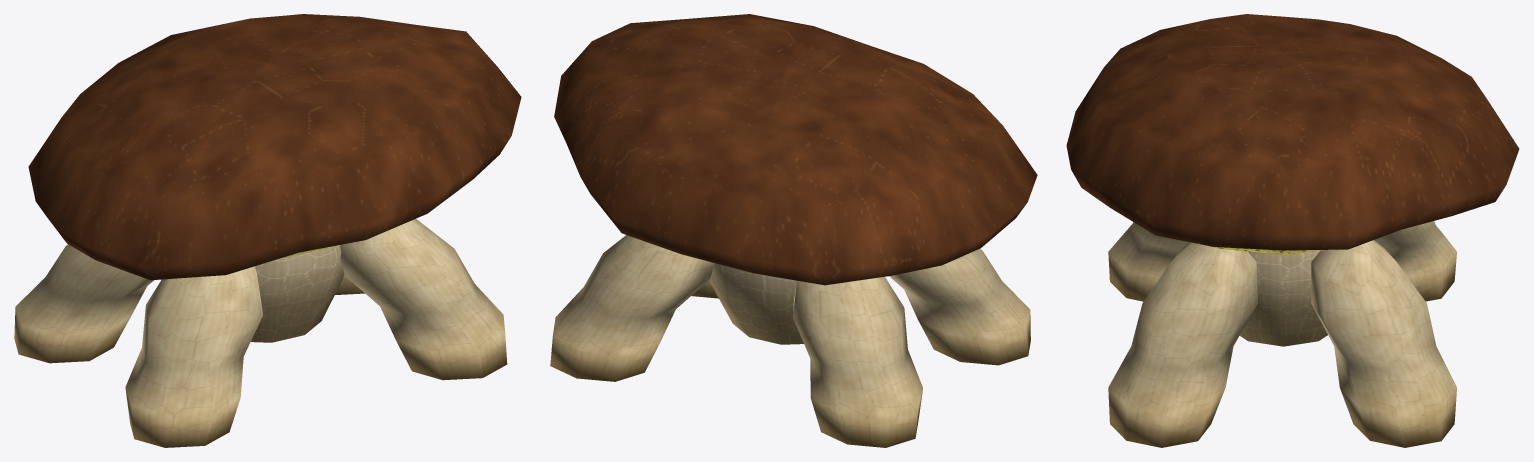
Rendered from cep_bulwark_distant.glb.
3 views of the same model, side by side, from view 1: azimuth 30°, elevation 25°; view 2: azimuth 150°, elevation 25°; view 3: azimuth 270°, elevation 25° (orthographic). The views are drawn at different scales.
Visible parts, largest first — view 1: CepBulwark_distant; view 2: CepBulwark_distant; view 3: CepBulwark_distant.
Part boxes in pixels (x1,y1,x2,y2): CepBulwark_distant: (14, 14, 521, 447); CepBulwark_distant: (550, 14, 1037, 447); CepBulwark_distant: (1066, 14, 1519, 447).
Bounding box in the file's own units: 2.53 × 1.61 × 2.12.
1 material, 1 textured.
